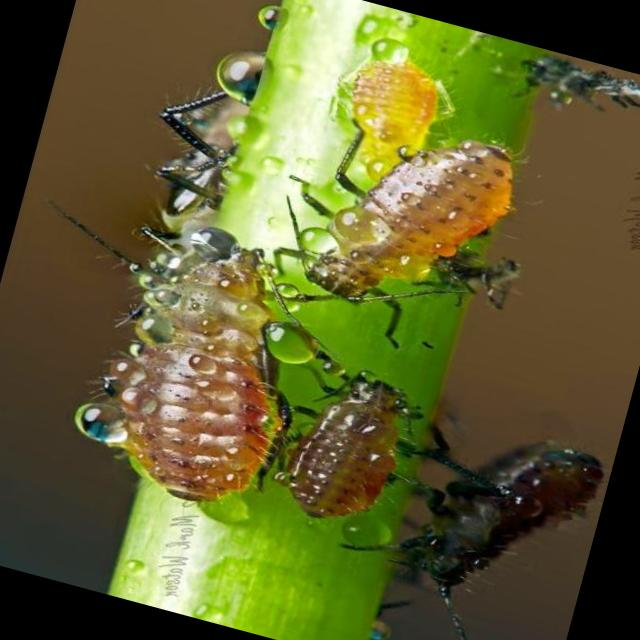aphid: (35, 177, 331, 532), (247, 70, 536, 348), (232, 327, 464, 566), (317, 41, 458, 198)
